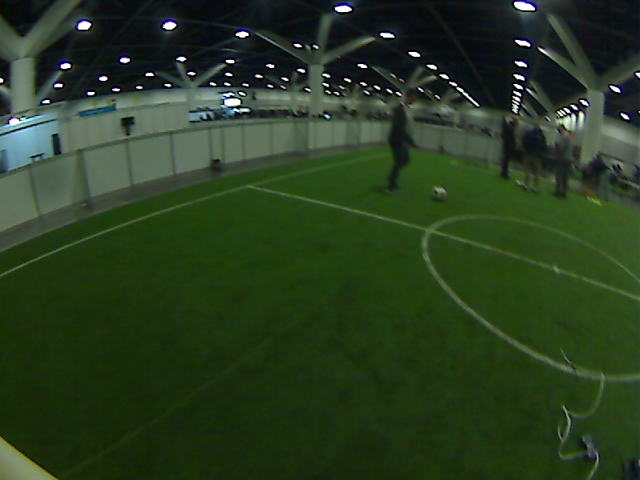ball: (431, 183, 447, 201)
goalpost: (486, 123, 499, 167)
